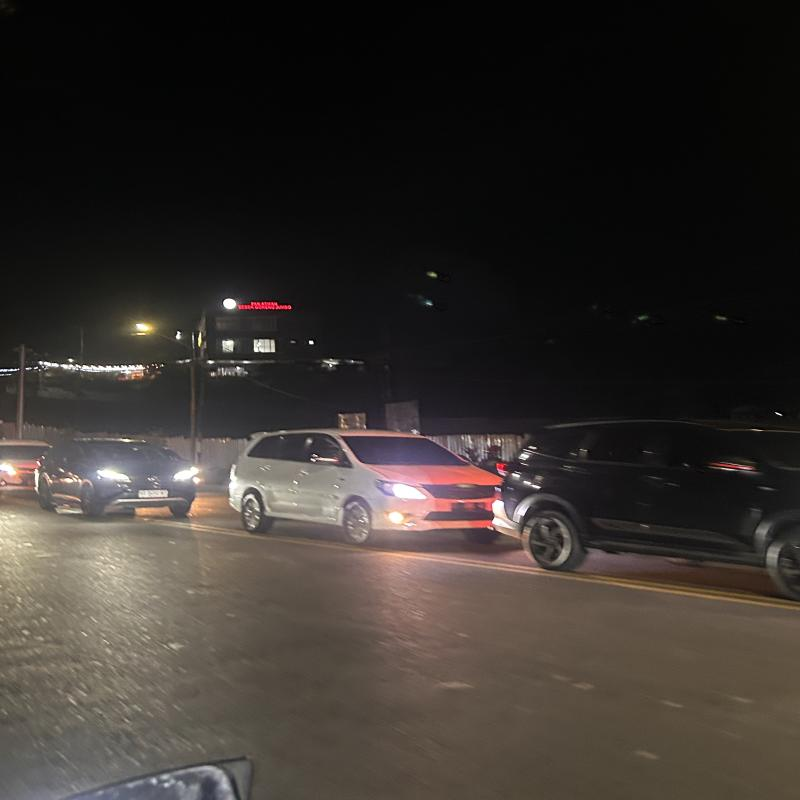license plate on a car: (450, 496, 492, 515), (138, 486, 175, 501)
